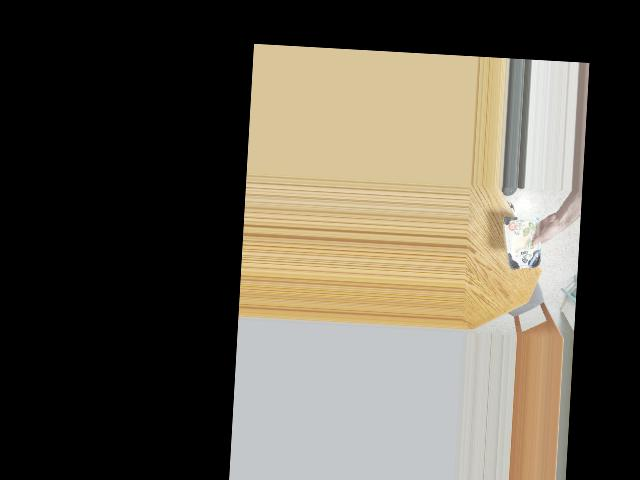cheese: (501, 214, 548, 270)
